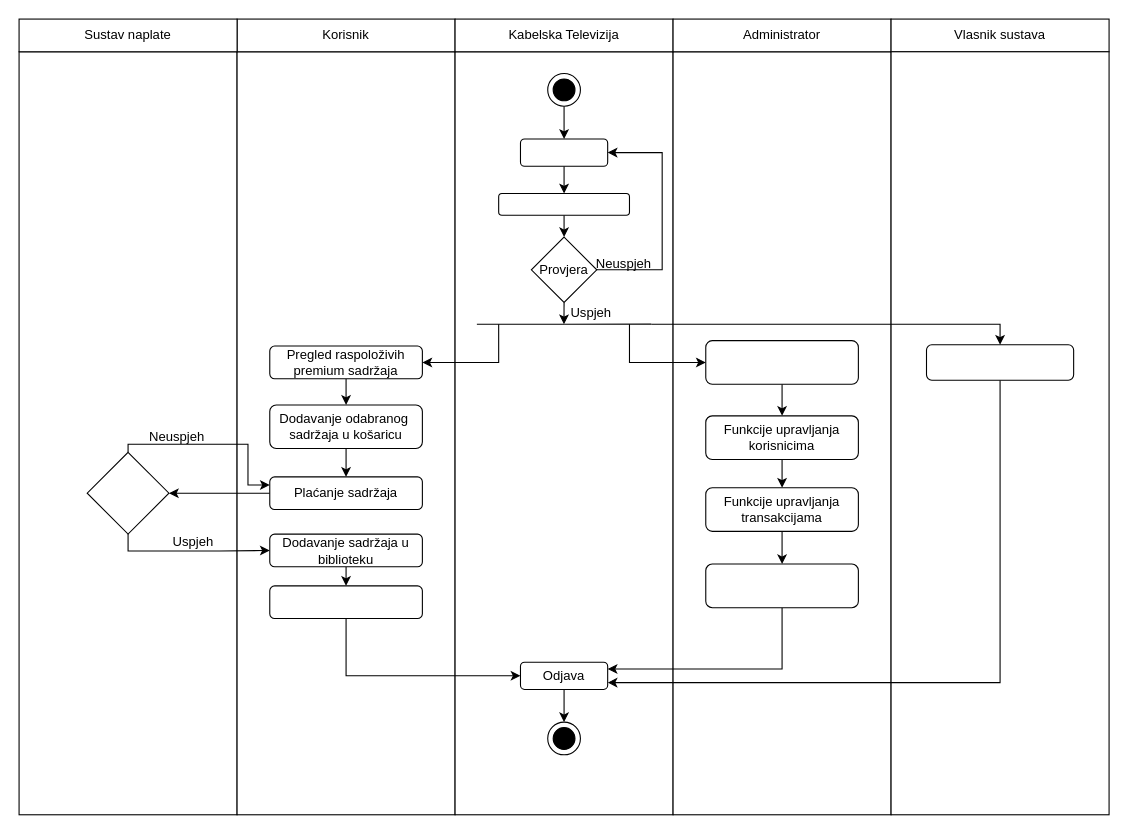
Some shapes in this 1128 by 834 pixel diagram are drawn without their labels. Each missing label, with the centre of its shape:
Autorizacija: the point at 563,203
Funkcije upravljanja recenzijama: the point at 781,585
Funkcije upravljanja sustavom: the point at 781,362
Pregled izvještaja: the point at 999,362
Prijava: the point at 563,152
Provjera plaćanja: the point at 127,492
Recenzija sadržaja: the point at 345,602
